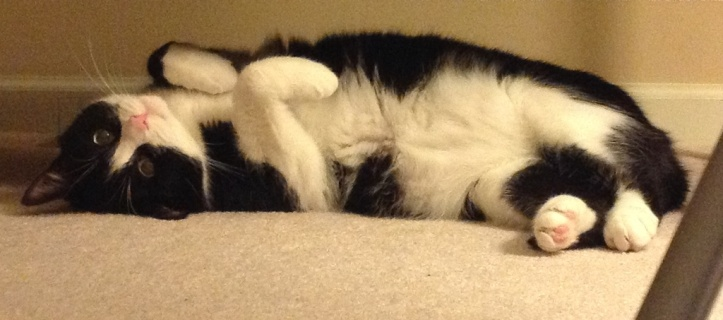Cat: (19, 24, 695, 254)
